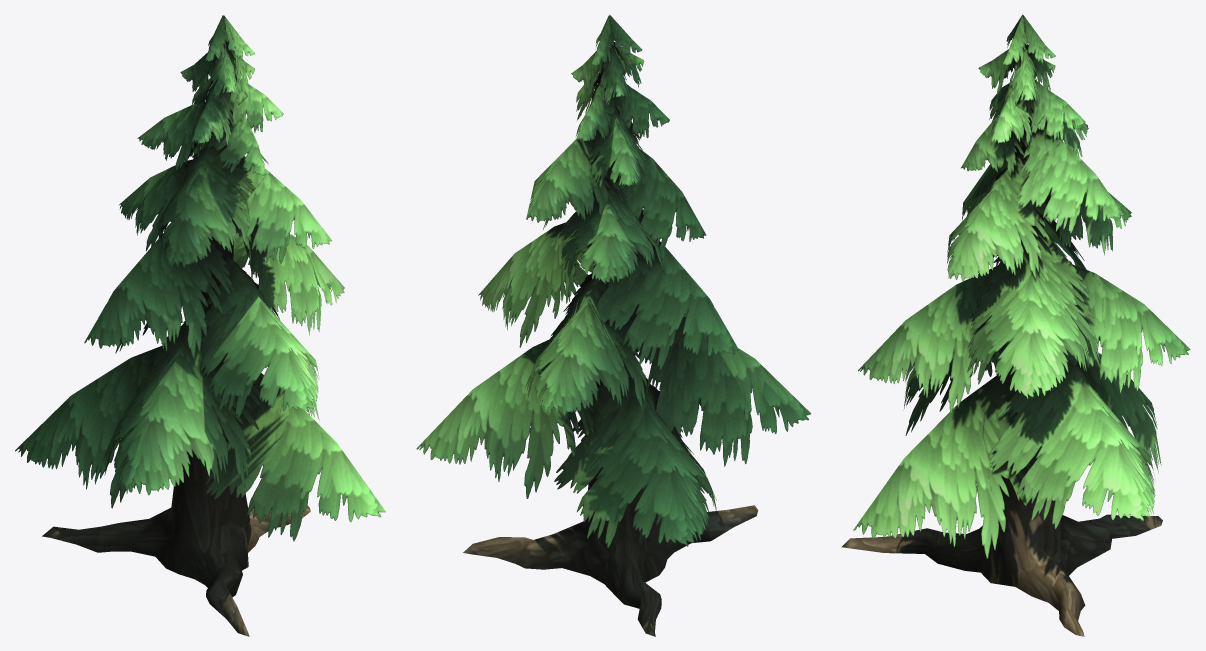
The model's file is Mod_WM_Tree_Pine_02.fbx.
3 renders of one model, left to right at view 1: azimuth 30°, elevation 25°; view 2: azimuth 150°, elevation 25°; view 3: azimuth 270°, elevation 25°, orthographic. The views are drawn at different scales.
Visible parts, largest first — view 1: polySurface477; view 2: polySurface477; view 3: polySurface477.
Part boxes in pixels (x1,y1,x2,y2): polySurface477: (15, 15, 385, 636); polySurface477: (416, 15, 811, 636); polySurface477: (841, 14, 1190, 636).
Size of the model in its own units: 96.54 by 179 by 101.
Materials: 1 (1 with a texture image).
